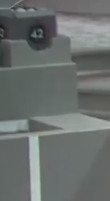box: (1, 5, 63, 53)
